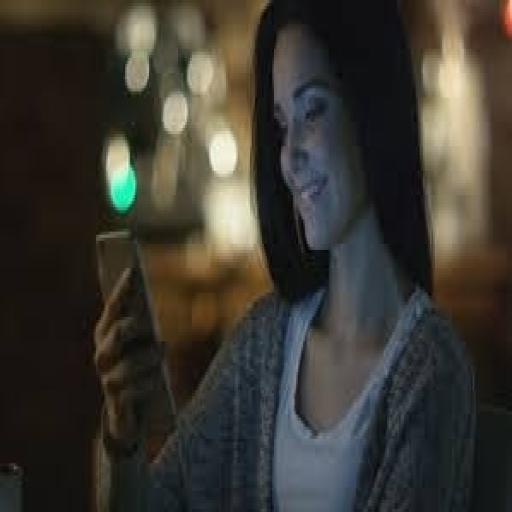texting: (88, 0, 482, 506)
